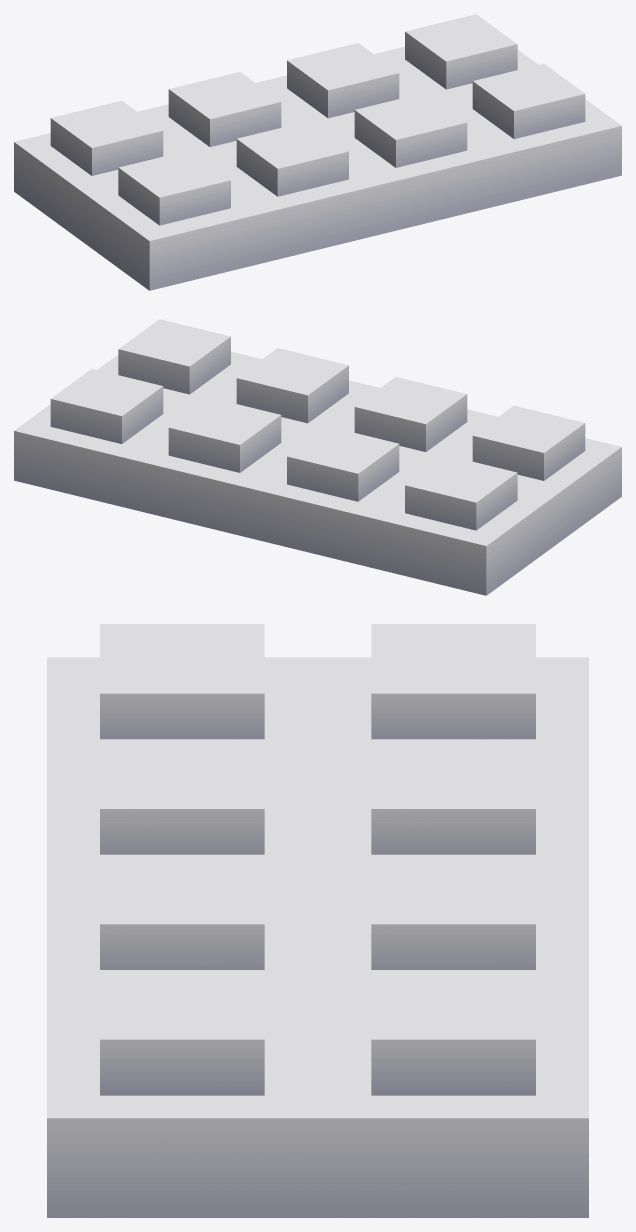
The model's file is square_lq_plate_2x4.glb.
The picture shows the model from 3 angles, top to bottom: view 1: azimuth 30°, elevation 25°; view 2: azimuth 150°, elevation 25°; view 3: azimuth 270°, elevation 25°; orthographic projection. The views are drawn at different scales.
Parts seen in each view (by area): view 1: square-lq-plate-2x4; view 2: square-lq-plate-2x4; view 3: square-lq-plate-2x4.
Part boxes in pixels (<box>): square-lq-plate-2x4: <box>14,14,621,290</box>; square-lq-plate-2x4: <box>14,319,621,595</box>; square-lq-plate-2x4: <box>47,624,588,1217</box>.
Size of the model in its own units: 0.318 by 0.05 by 0.158.
1 material, 1 textured.
